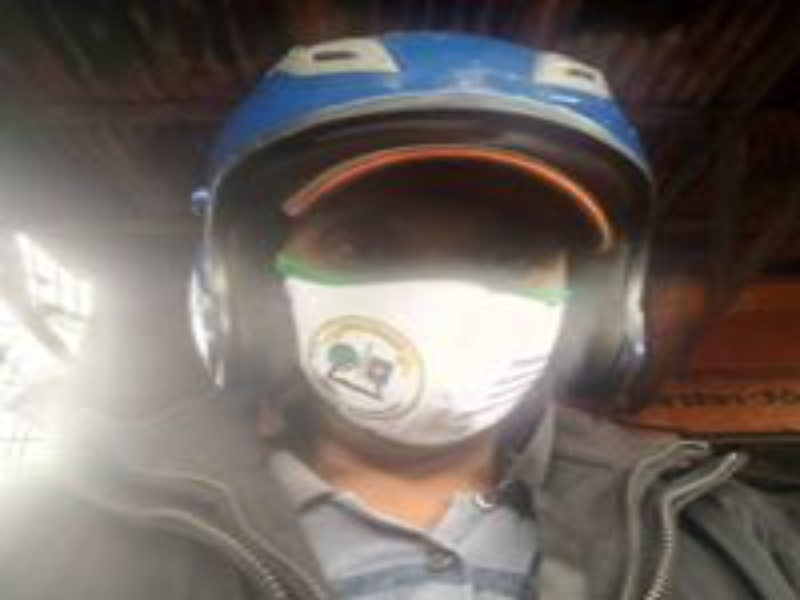ManaoArotava: (250, 93, 631, 491)
